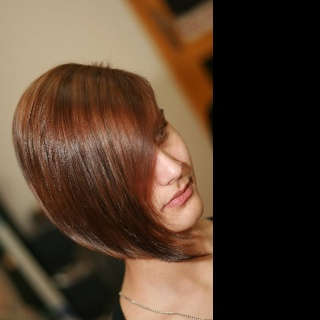without_mask: (145, 101, 204, 236)
